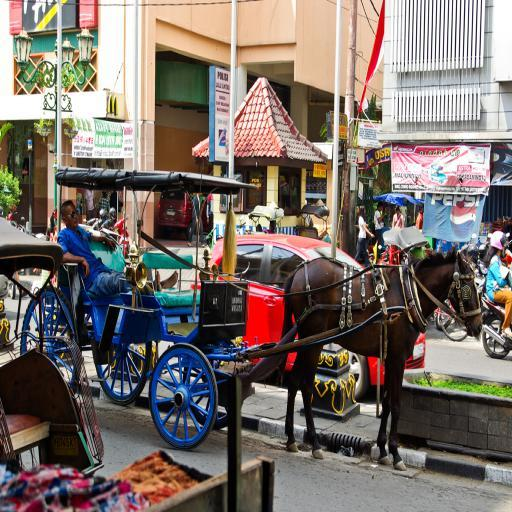Horse: (275, 243, 483, 473)
